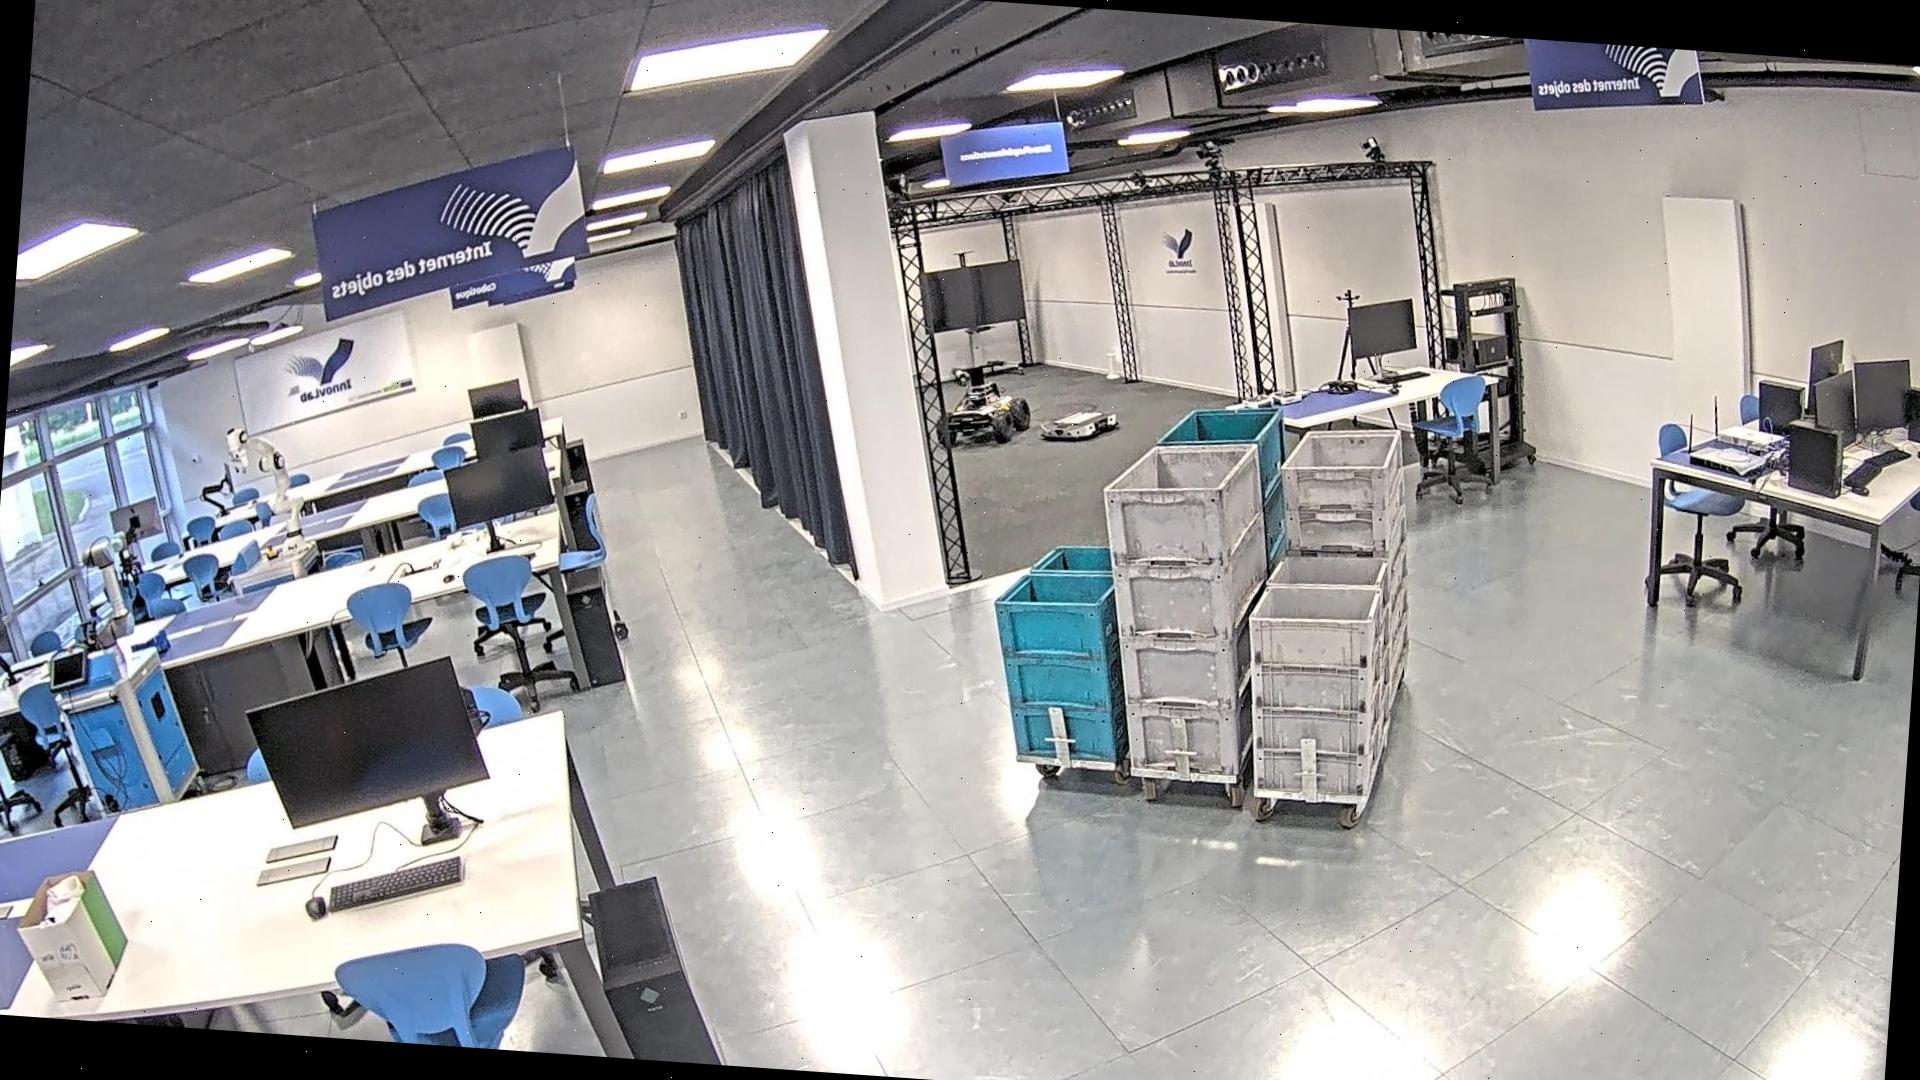Box3G: (1261, 417, 1428, 716)
Box4G: (1083, 430, 1291, 781)
Box8G: (1234, 546, 1404, 802)
BoxB4: (1131, 396, 1309, 742)
BoxB8: (982, 535, 1150, 766)
